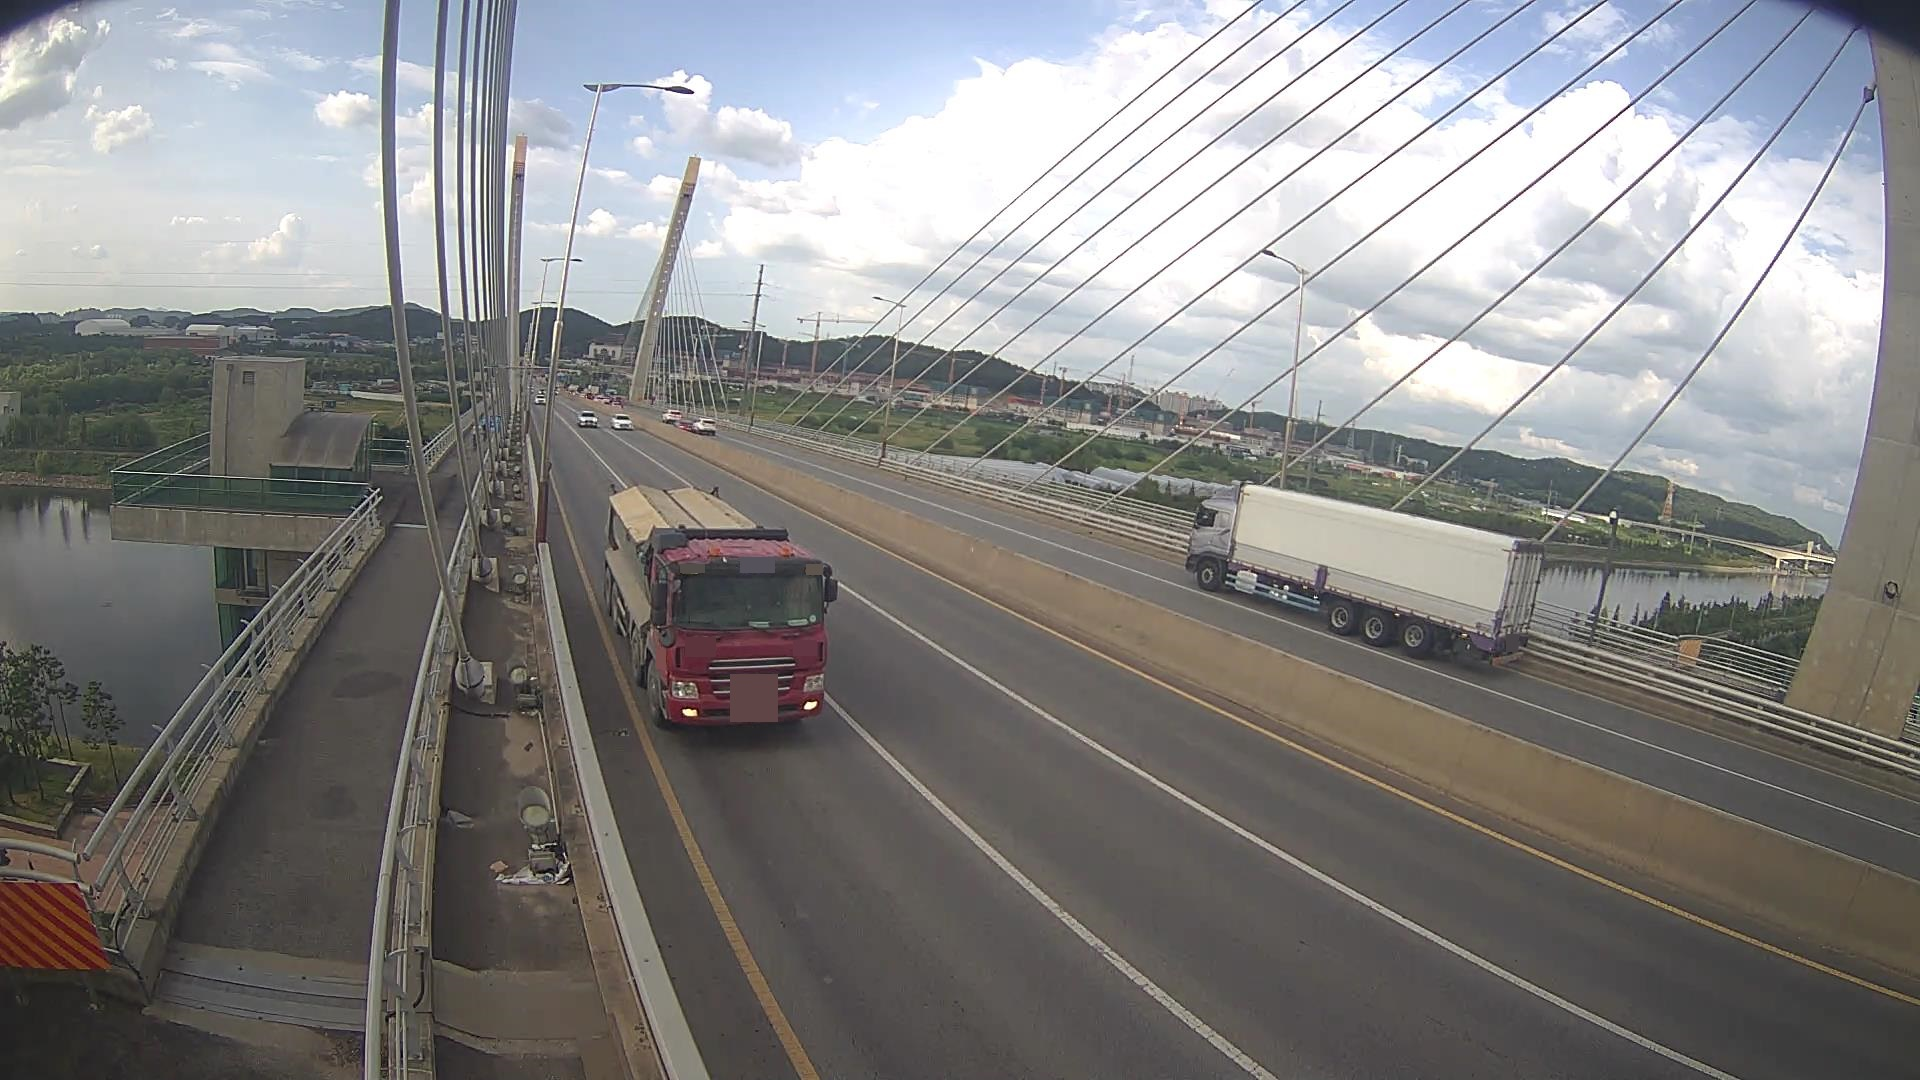정상차량: (604, 484, 837, 725)
